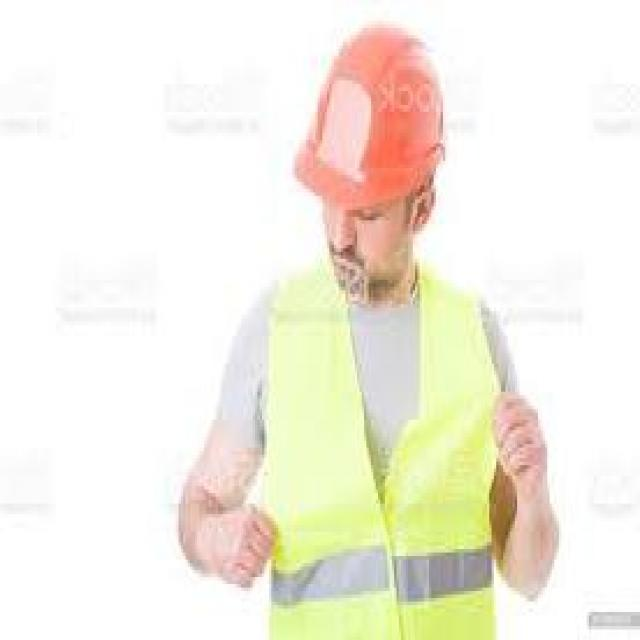reflective_jacket: (247, 266, 510, 633)
safety_helmet: (294, 17, 456, 209)
